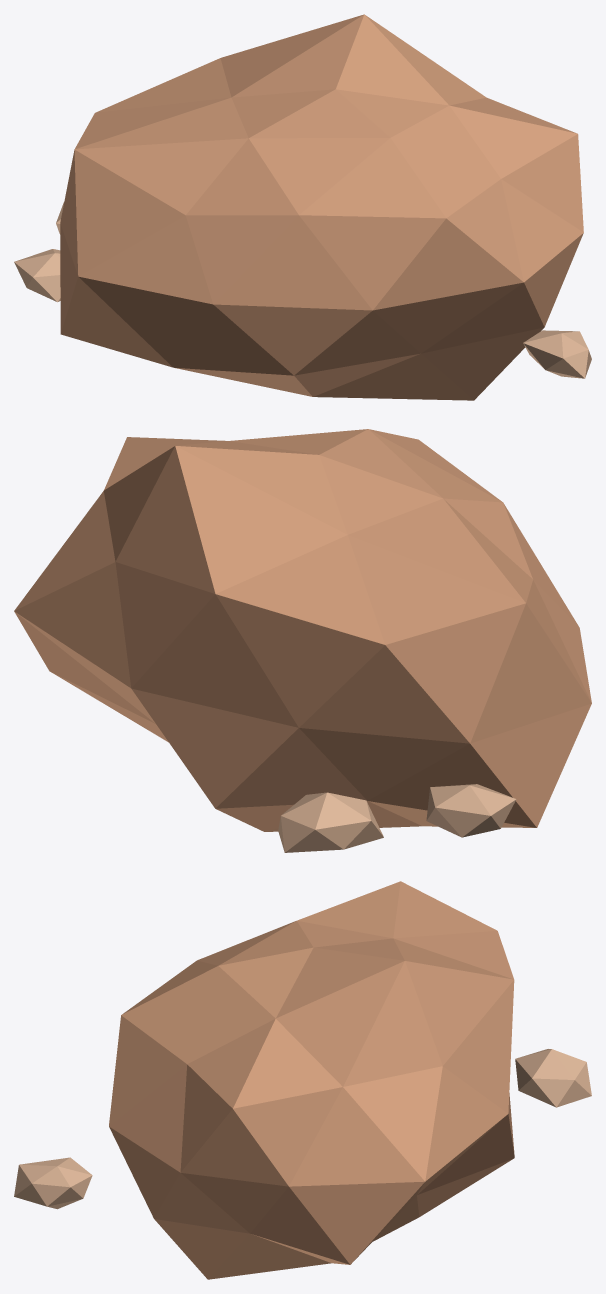
The model's file is BoulderB.glb.
3 views of the same model, one above another, from view 1: azimuth 30°, elevation 25°; view 2: azimuth 150°, elevation 25°; view 3: azimuth 270°, elevation 25° (orthographic). The views are drawn at different scales.
Visible parts, largest first — view 1: Boulder.001, Spall.005, Spall.004; view 2: Boulder.001, Spall.003, Spall.004; view 3: Boulder.001, Spall.003, Spall.005.
Part boxes in pixels (<box>): Boulder.001: <box>60,14,583,400</box>; Spall.005: <box>523,330,591,378</box>; Spall.004: <box>14,249,60,302</box>; Boulder.001: <box>14,429,591,831</box>; Spall.003: <box>278,792,383,852</box>; Spall.004: <box>426,784,516,837</box>; Boulder.001: <box>109,881,514,1279</box>; Spall.003: <box>515,1049,591,1107</box>; Spall.005: <box>14,1157,92,1209</box>.
Bounding box in the file's own units: 2.93 × 1.95 × 3.26.
